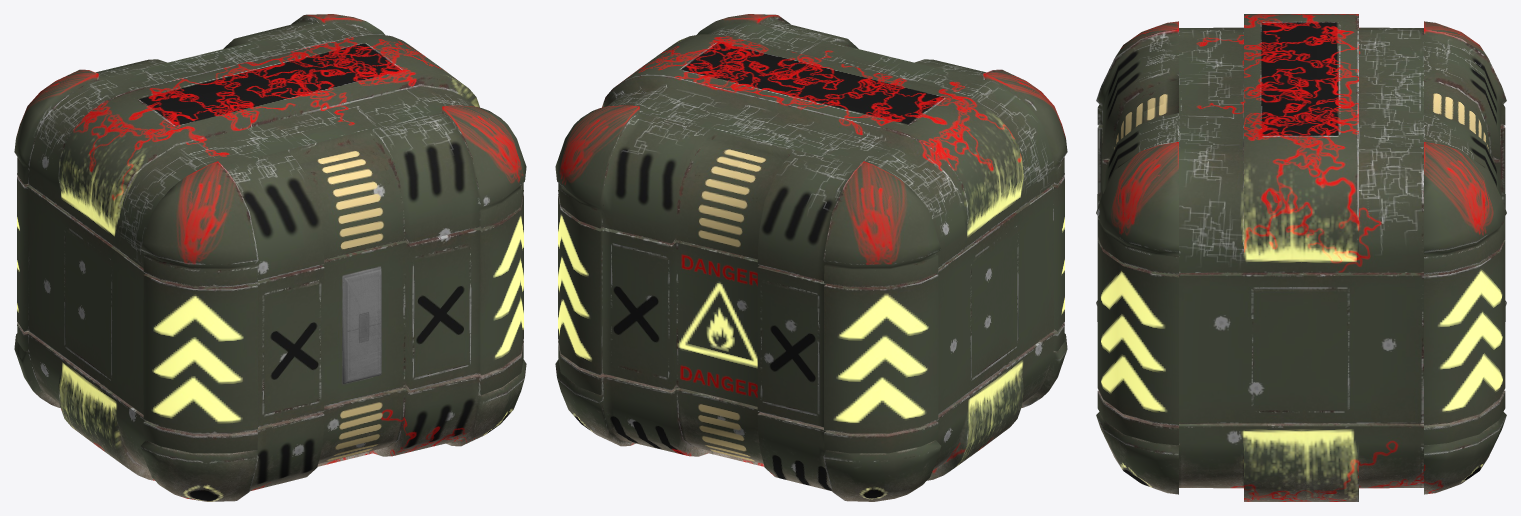
The picture shows the model from 3 angles, left to right: view 1: azimuth 30°, elevation 25°; view 2: azimuth 150°, elevation 25°; view 3: azimuth 270°, elevation 25°; orthographic projection. The views are drawn at different scales.
Visible parts, largest first — view 1: Crate_Low, Lock_Low; view 2: Crate_Low; view 3: Crate_Low.
Part boxes in pixels (x1,y1,x2,y2): Crate_Low: [14, 14, 526, 501]; Lock_Low: [342, 266, 381, 383]; Crate_Low: [555, 14, 1067, 501]; Crate_Low: [1096, 14, 1506, 501].
Bounding box in the file's own units: 2 × 1.76 × 1.83.
1 material, 1 textured.
